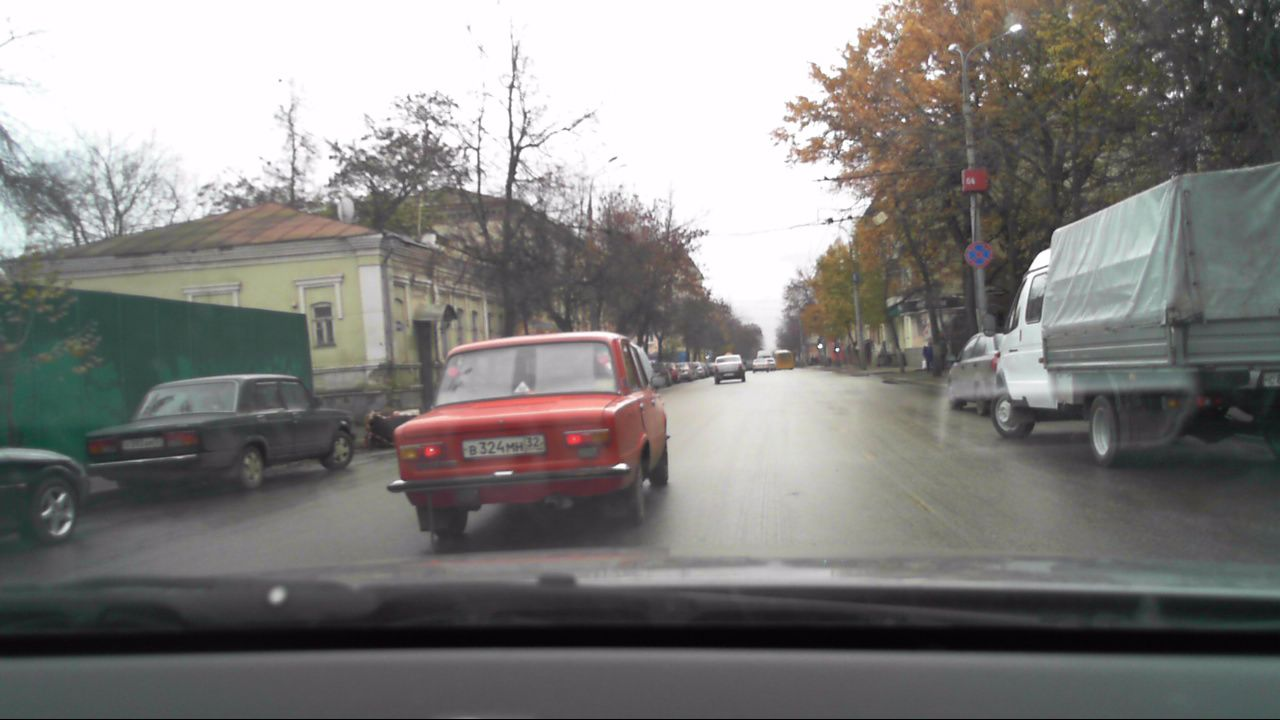No Parking: (964, 241, 993, 268)
